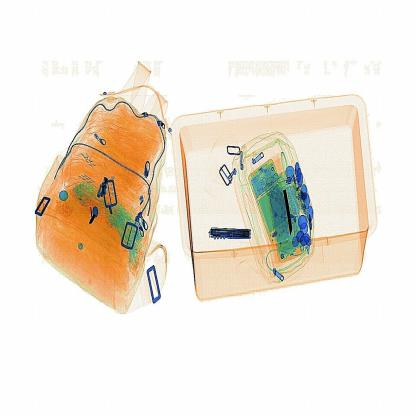scissors: (209, 223, 254, 244)
